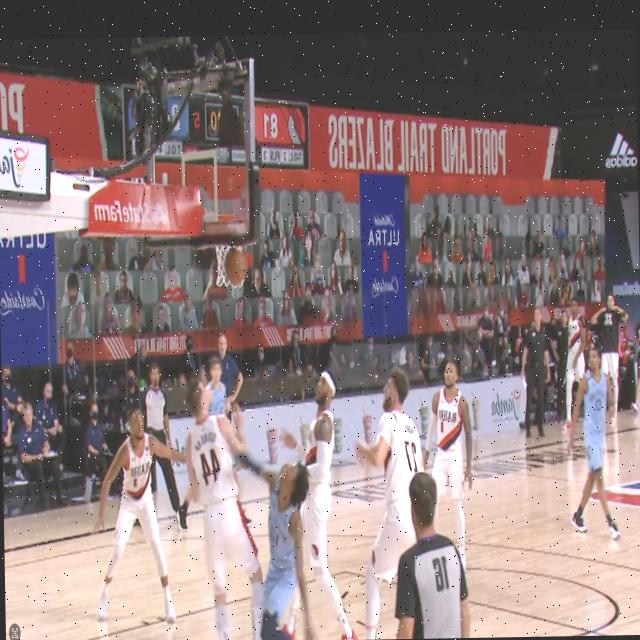no foul: (170, 372, 261, 626), (292, 349, 359, 640), (260, 437, 330, 640)
